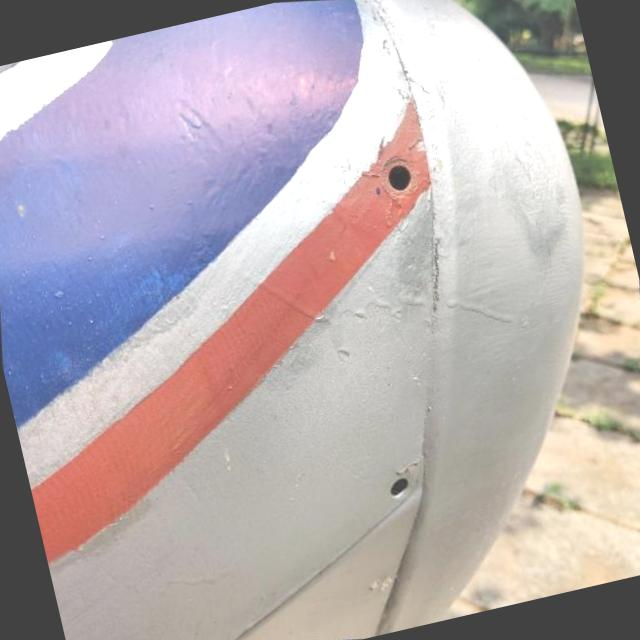Missing Fastener: (376, 153, 417, 197), (386, 476, 406, 496)
